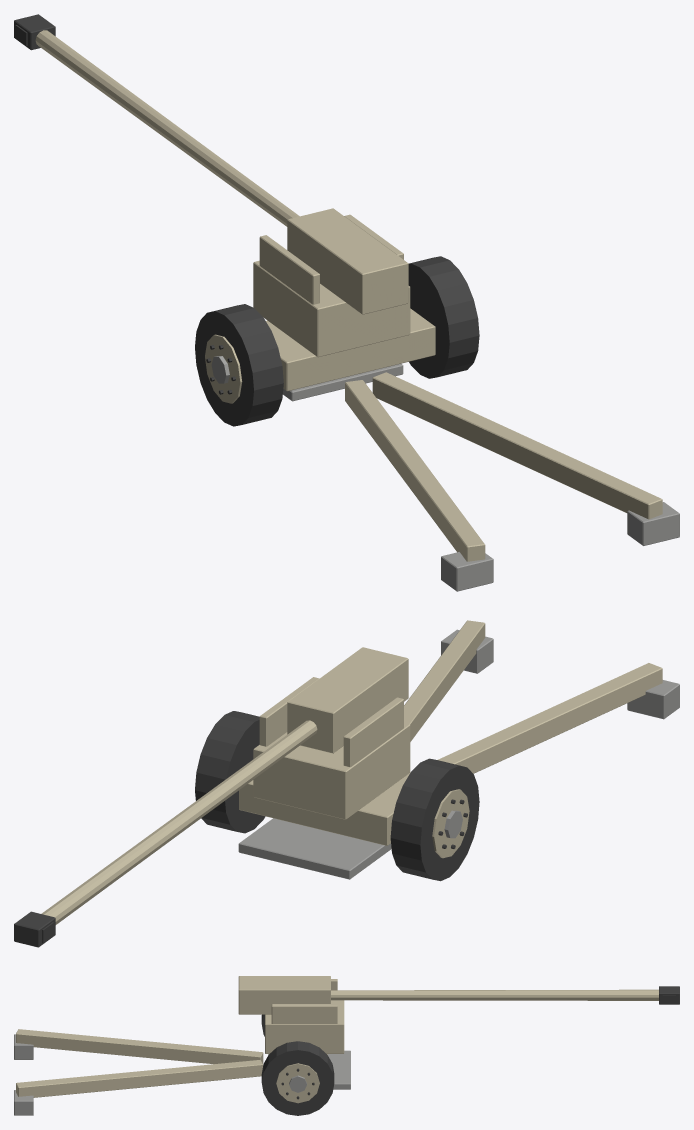
File: usa_tow_m198.glb
3 views of the same model, one above another, from view 1: azimuth 30°, elevation 25°; view 2: azimuth 150°, elevation 25°; view 3: azimuth 270°, elevation 25° (orthographic). The views are drawn at different scales.
Parts seen in each view (by area): view 1: body, barrel, turret, wheel_0, wheel_1; view 2: body, barrel, turret, wheel_0, wheel_1; view 3: body, barrel, wheel_1, turret.
Part boxes in pixels (x1=…): body: x1=266, y1=308, x2=679, y2=591; barrel: x1=14, y1=14, x2=408, y2=314; turret: x1=253, y1=214, x2=410, y2=357; wheel_0: x1=195, y1=304, x2=283, y2=426; wheel_1: x1=408, y1=256, x2=479, y2=378; body: x1=238, y1=620, x2=679, y2=879; barrel: x1=14, y1=647, x2=408, y2=947; turret: x1=253, y1=677, x2=410, y2=819; wheel_0: x1=390, y1=758, x2=479, y2=881; wheel_1: x1=195, y1=711, x2=265, y2=833; body: x1=14, y1=1029, x2=350, y2=1115; barrel: x1=238, y1=976, x2=679, y2=1014; wheel_1: x1=261, y1=1041, x2=334, y2=1115; turret: x1=265, y1=979, x2=344, y2=1053.
Bounding box in the file's own units: 2.54 × 1.67 × 10.08.
